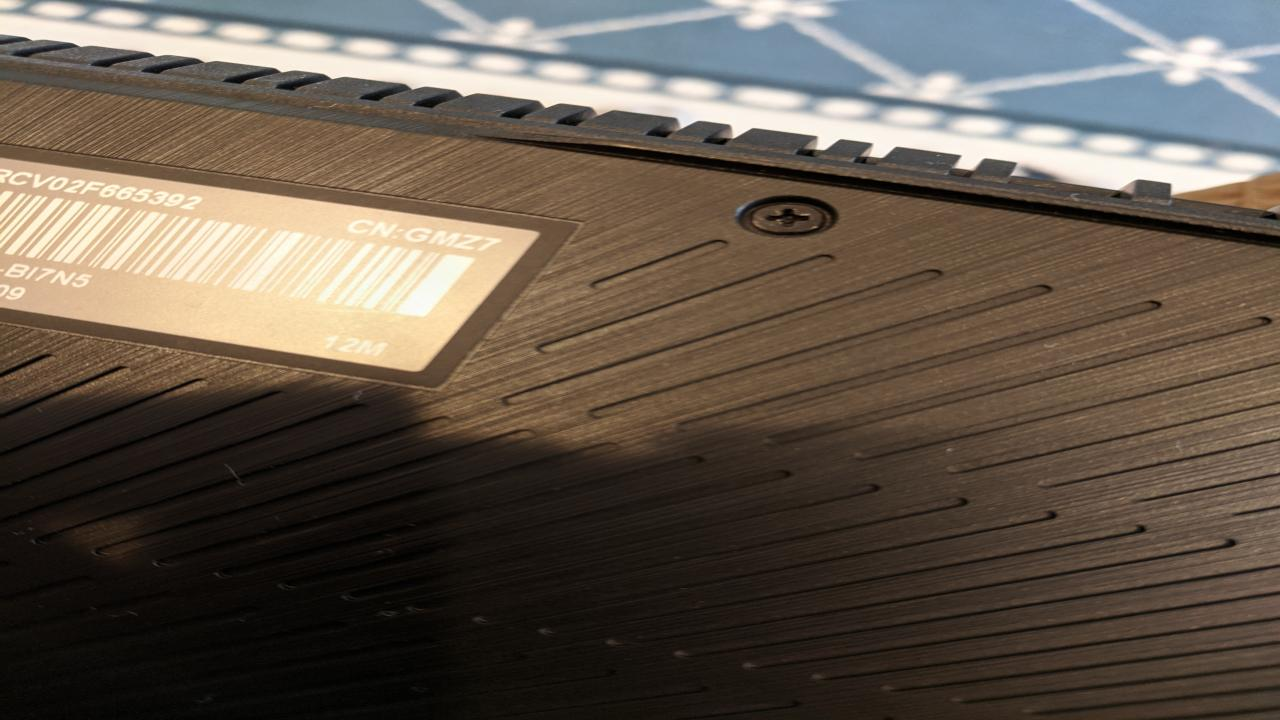CRS: (751, 203, 835, 235)
